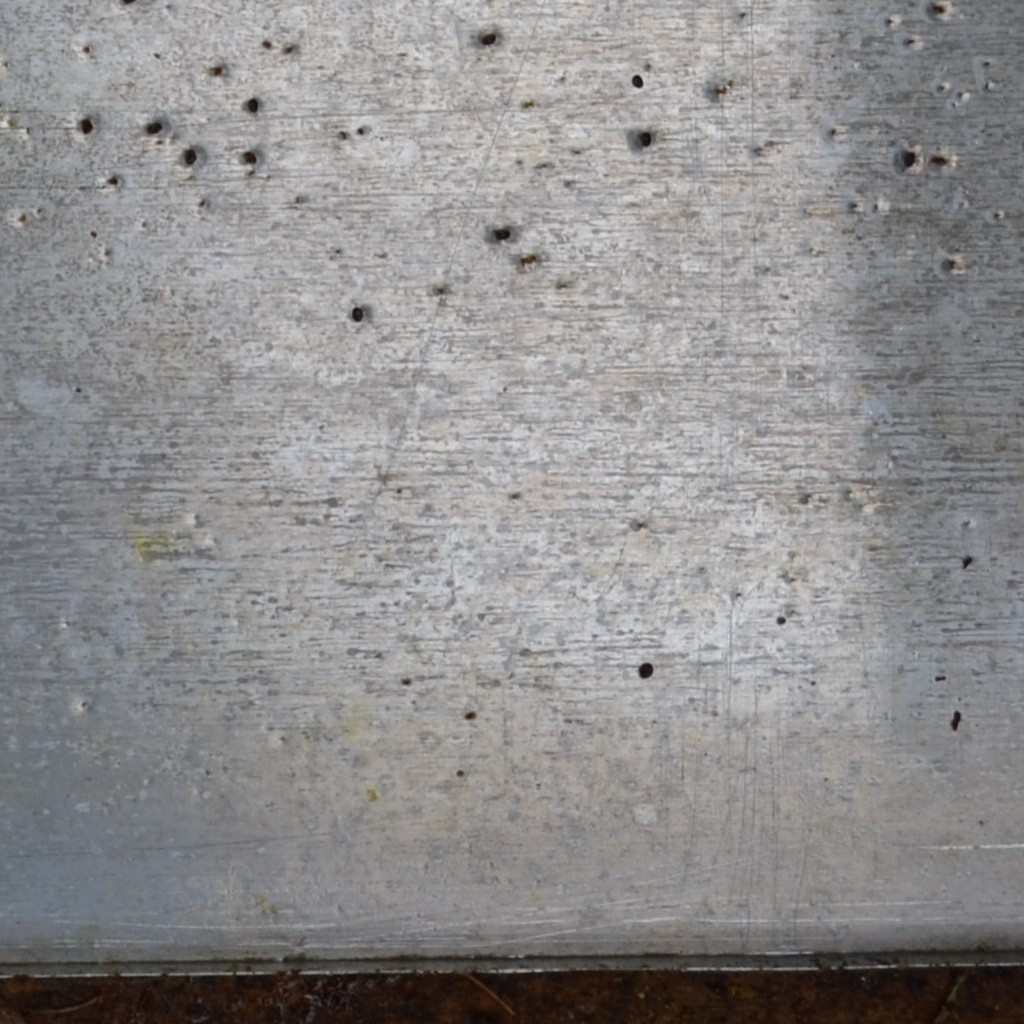varroa: (489, 221, 514, 244), (349, 300, 367, 326), (144, 117, 165, 139), (635, 657, 654, 681), (238, 147, 260, 166), (637, 126, 654, 149), (183, 146, 198, 169), (479, 32, 499, 49), (245, 95, 260, 116), (629, 71, 646, 89)
